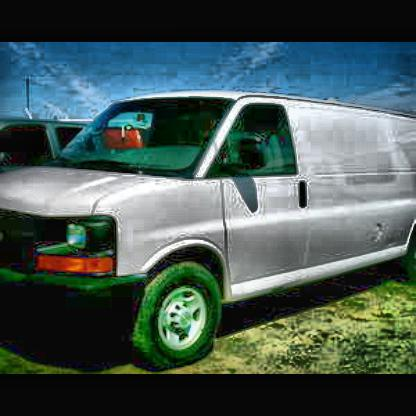Chevrolet Express Van 2007: (2, 93, 416, 370)
